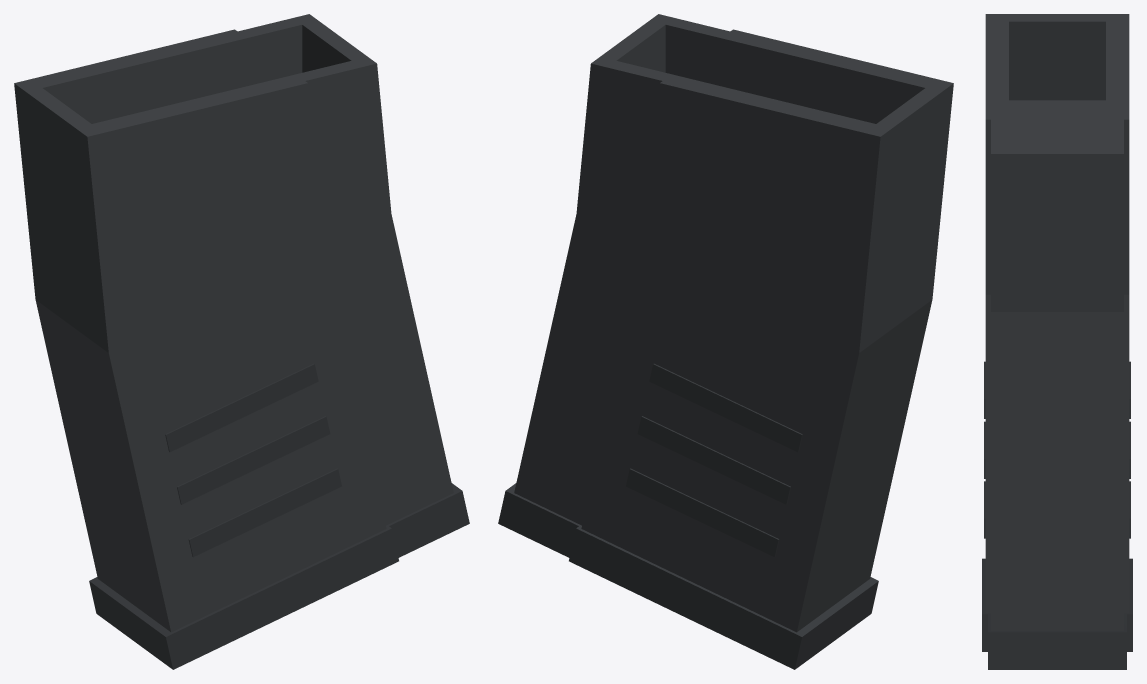
Rendered from SniperRifle6_03_2.fbx.
3 renders of one model, left to right at view 1: azimuth 30°, elevation 25°; view 2: azimuth 150°, elevation 25°; view 3: azimuth 270°, elevation 25°, orthographic.
Parts seen in each view (by area): view 1: SniperRifle6_03_2; view 2: SniperRifle6_03_2; view 3: SniperRifle6_03_2.
Part boxes in pixels (bbox=[...]): SniperRifle6_03_2: bbox=[14, 14, 469, 669]; SniperRifle6_03_2: bbox=[498, 14, 953, 669]; SniperRifle6_03_2: bbox=[982, 14, 1132, 669].
Bounding box in the file's own units: 0.0906 × 0.1246 × 0.0314.
